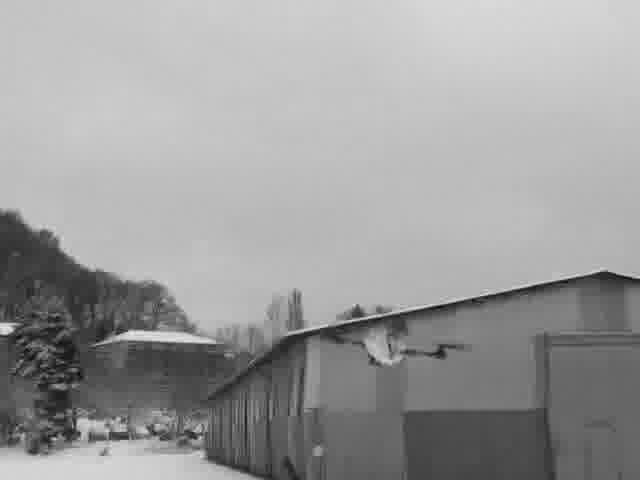drone: (312, 304, 473, 376)
